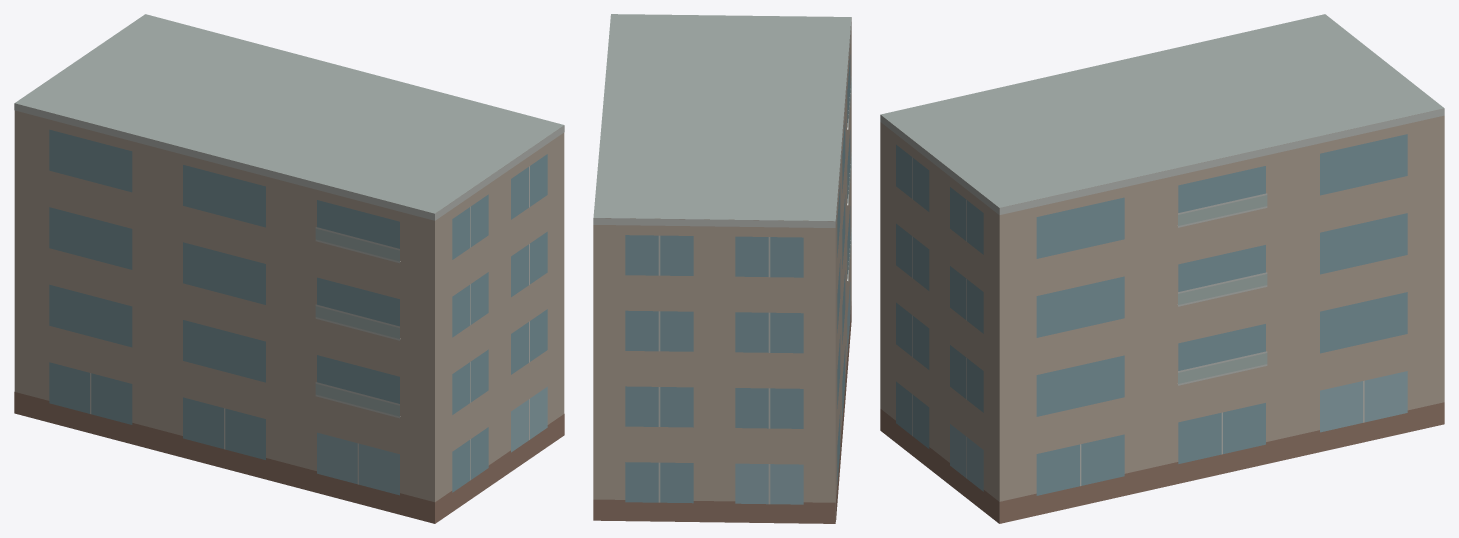
Rendered from survey-upis-32883457.glb.
3 views of the same model, side by side, from view 1: azimuth 30°, elevation 25°; view 2: azimuth 150°, elevation 25°; view 3: azimuth 270°, elevation 25° (orthographic). The views are drawn at different scales.
Visible parts, largest first — view 1: survey-upis-32883457.tmp; view 2: survey-upis-32883457.tmp; view 3: survey-upis-32883457.tmp.
Boxes of the visible parts, x1,y1,x2,y2 form: survey-upis-32883457.tmp: [14, 14, 564, 523]; survey-upis-32883457.tmp: [593, 14, 851, 523]; survey-upis-32883457.tmp: [880, 14, 1444, 523].
Bounding box in the file's own units: 13.96 × 10.6 × 17.17.
